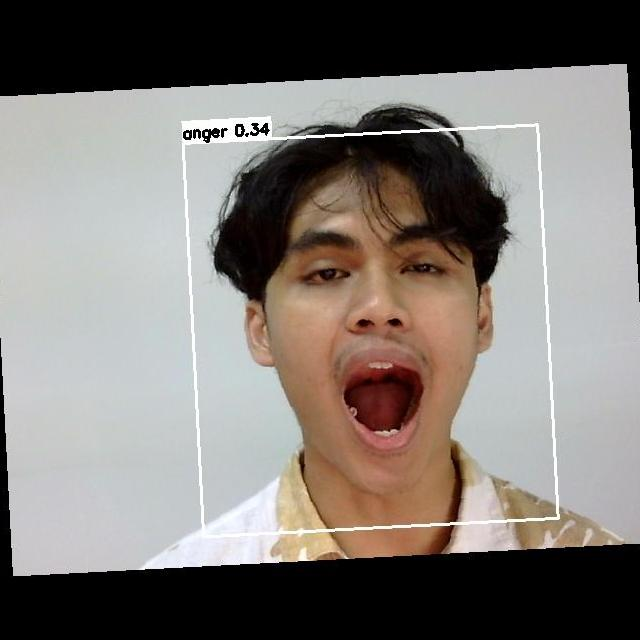Surprised: (275, 208, 494, 475)
